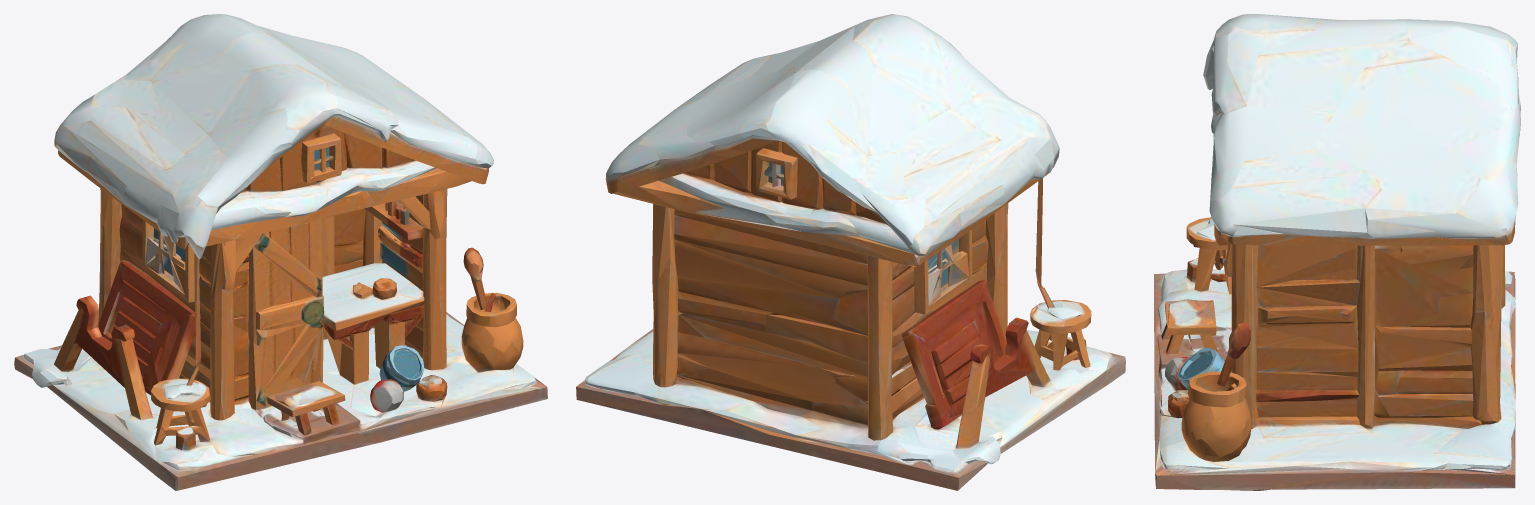
The model's file is carpenter.glb.
3 renders of one model, left to right at view 1: azimuth 30°, elevation 25°; view 2: azimuth 150°, elevation 25°; view 3: azimuth 270°, elevation 25°, orthographic. The views are drawn at different scales.
Bounding box in the file's own units: 1.9 × 1.59 × 1.43.
1 material, 1 textured.
